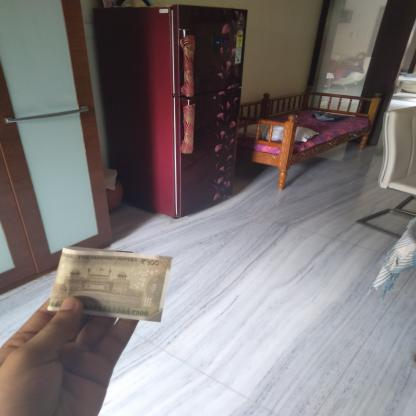New500Back: (50, 250, 166, 320)
